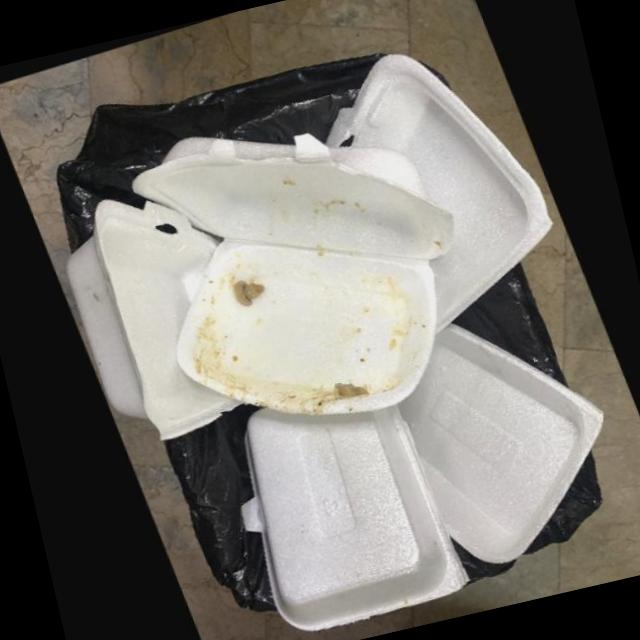xop: (129, 132, 450, 414), (323, 52, 548, 332), (231, 405, 458, 632), (389, 323, 596, 564), (61, 198, 236, 440)
